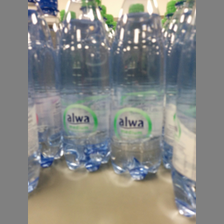water: (107, 1, 165, 182), (55, 1, 108, 172), (170, 1, 195, 224)
